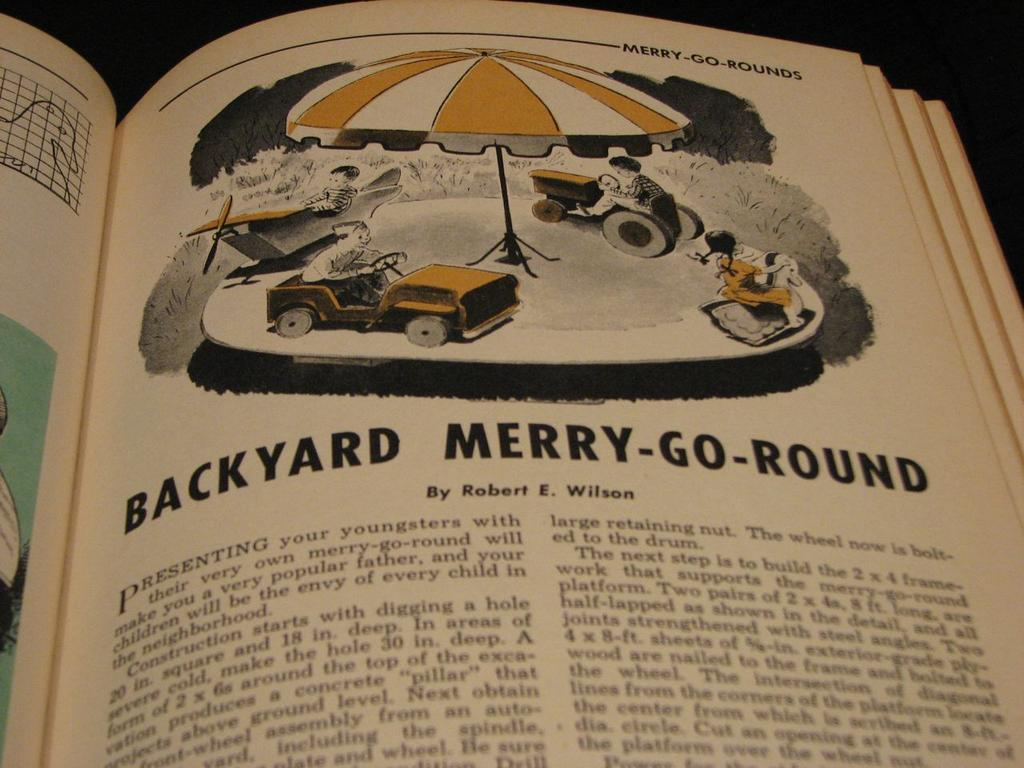Car: (266, 261, 519, 345)
